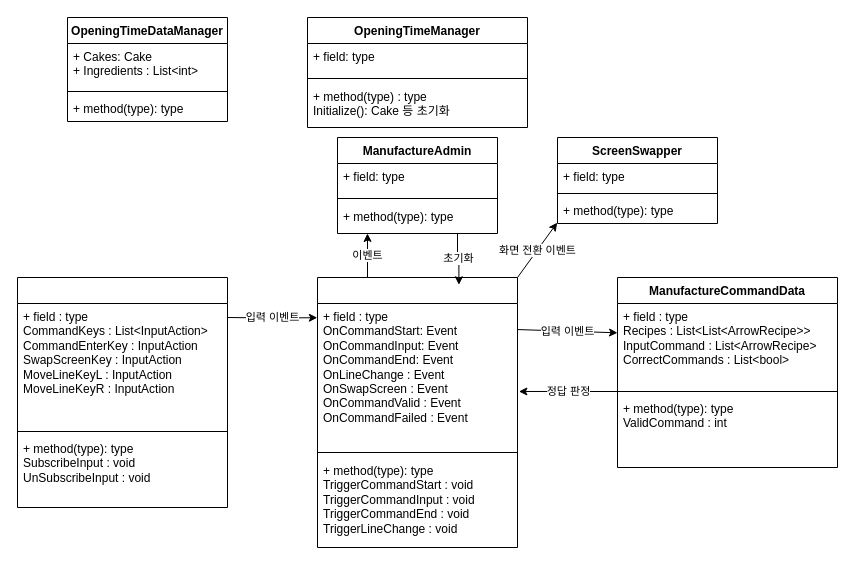
Some shapes in this 855 by 568 pixel diagram are drawn without their labels. The shapes that lost their labels are listed below. From the top down, each one's box as (x1, y1, x2, y2) in pixels, then its label:
(16, 276, 228, 508): ManufactureInpuManager
(316, 276, 518, 548): ManufactureEventManager
